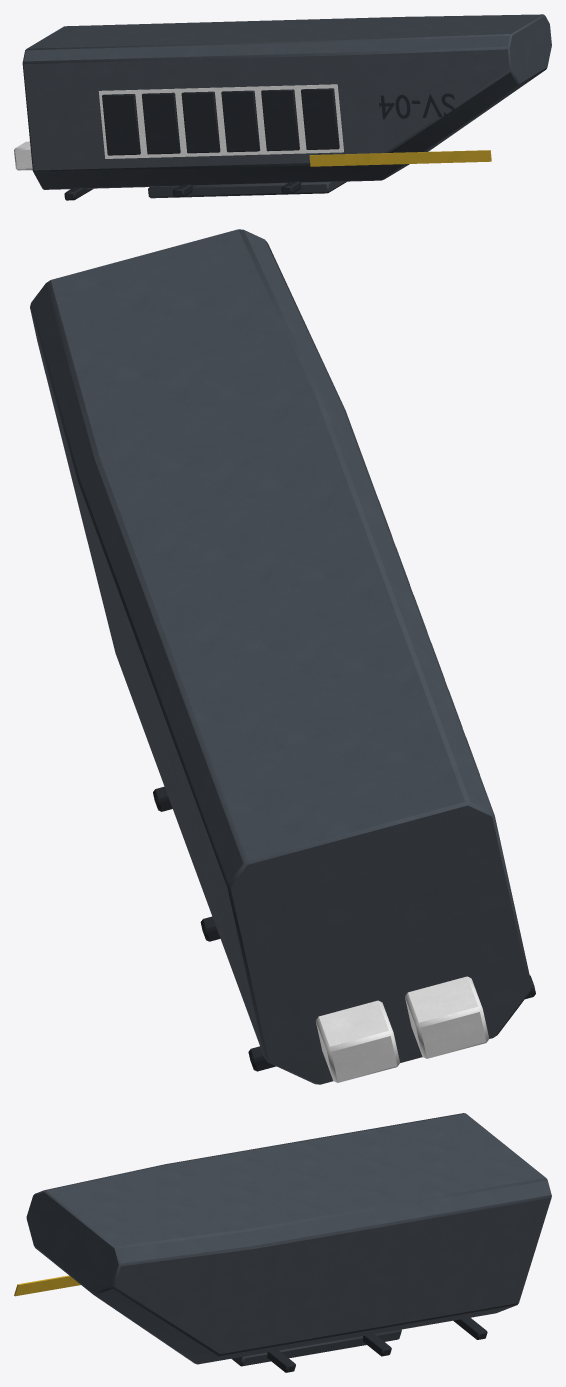
The model's file is sv04_housing.glb.
The picture shows the model from 3 angles, top to bottom: view 1: azimuth 30°, elevation 25°; view 2: azimuth 150°, elevation 25°; view 3: azimuth 270°, elevation 25°; orthographic projection. The views are drawn at different scales.
Parts seen in each view (by area): view 1: sv04_housing; view 2: sv04_housing; view 3: sv04_housing.
Boxes of the visible parts, x1=… form: sv04_housing: x1=14, y1=14, x2=551, y2=200; sv04_housing: x1=30, y1=229, x2=535, y2=1084; sv04_housing: x1=14, y1=1113, x2=551, y2=1372.
Size of what is drawn, in the model's own units: 11.48 by 6.58 by 12.33.
6 materials, 6 textured.
